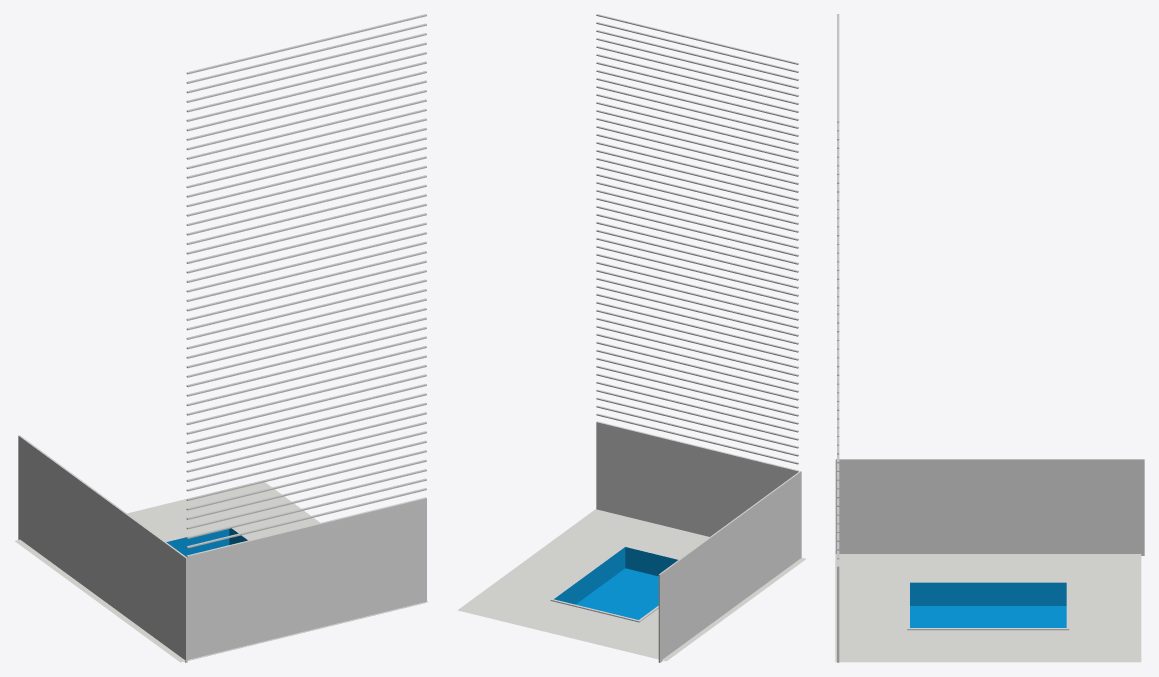
File: villa_I_pool.fbx
3 renders of one model, left to right at view 1: azimuth 30°, elevation 25°; view 2: azimuth 150°, elevation 25°; view 3: azimuth 270°, elevation 25°, orthographic. The views are drawn at different scales.
Visible parts, largest first — view 1: villa_I_wall_B, villa_I_wall_A, villa_I_wall_floor, villa_I_wall_pool, villa_store_29, villa_store_27, villa_store_4, villa_store_2, villa_store_0, villa_store_50, villa_store_48, villa_store_39 (+43 smaller); view 2: villa_I_wall_floor, villa_I_wall_B, villa_I_wall_A, villa_I_wall_pool, villa_store_0, villa_store_25, villa_store_22, villa_store_20, villa_store_17, villa_store_12, villa_store_2, villa_I_store_1 (+43 smaller); view 3: villa_I_wall_A, villa_I_wall_floor, villa_I_wall_pool.
Part boxes in pixels (box(x1,y1,x2,y2)): villa_I_wall_B: box(186, 497, 426, 660); villa_I_wall_A: box(18, 435, 187, 662); villa_I_wall_floor: box(15, 482, 427, 662); villa_I_wall_pool: box(165, 525, 249, 556); villa_store_29: box(186, 213, 426, 273); villa_store_27: box(186, 232, 426, 292); villa_store_4: box(186, 450, 426, 510); villa_store_2: box(186, 469, 426, 529); villa_store_0: box(186, 488, 426, 548); villa_store_50: box(186, 14, 426, 74); villa_store_48: box(186, 33, 426, 93); villa_store_39: box(186, 118, 426, 178); villa_I_wall_floor: box(457, 509, 805, 661); villa_I_wall_B: box(596, 421, 798, 536); villa_I_wall_A: box(658, 471, 801, 662); villa_I_wall_pool: box(550, 545, 679, 622); villa_store_0: box(596, 413, 798, 464); villa_store_25: box(596, 214, 798, 264); villa_store_22: box(596, 237, 798, 288); villa_store_20: box(596, 253, 798, 304); villa_store_17: box(596, 277, 798, 328); villa_store_12: box(596, 317, 798, 368); villa_store_2: box(596, 397, 798, 448); villa_I_store_1: box(596, 405, 798, 456); villa_I_wall_A: box(835, 459, 1144, 555); villa_I_wall_floor: box(835, 551, 1141, 662); villa_I_wall_pool: box(907, 581, 1069, 630).
Bounding box in the file's own units: 2878 × 6764 × 3372.
